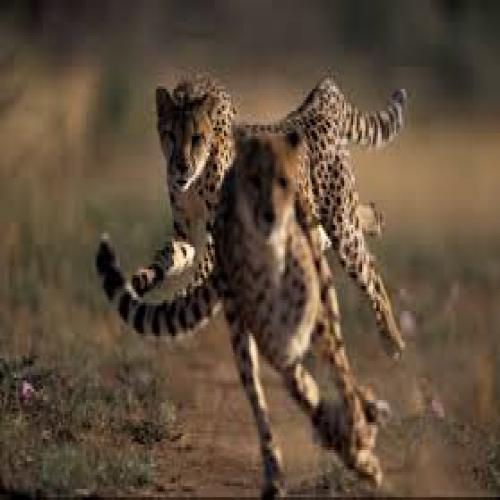african_elephant-endangered: (80, 135, 405, 494), (130, 66, 410, 288)
